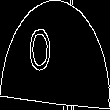O_S: (43, 27, 67, 83)
